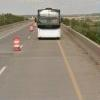Bus: (32, 6, 66, 39)
